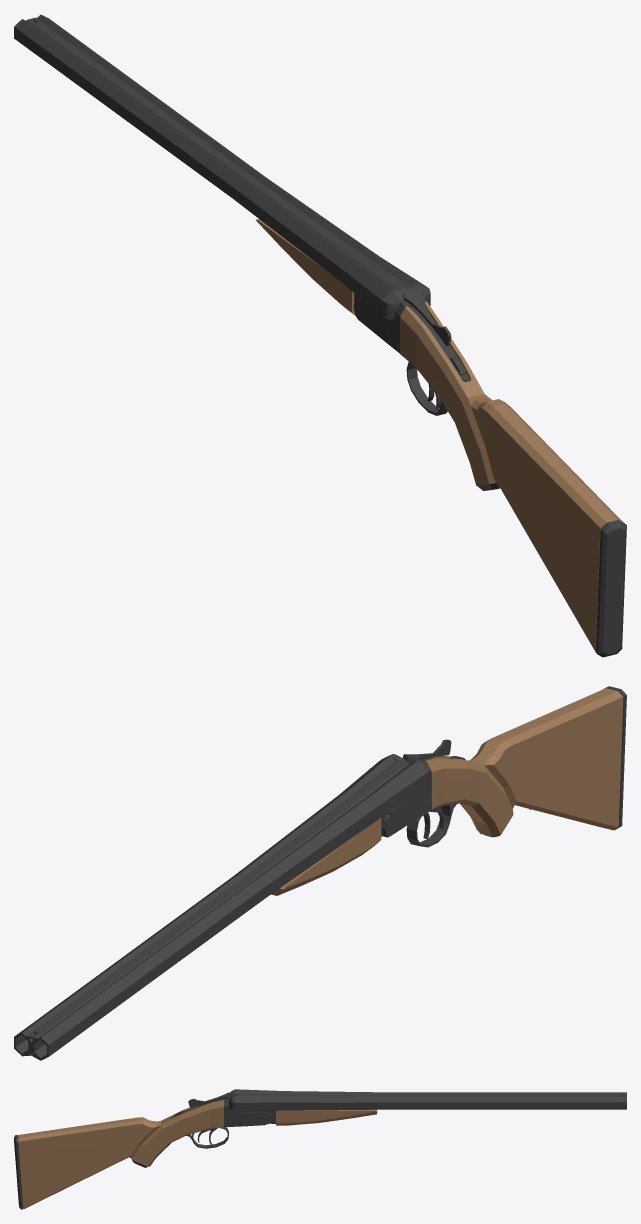
File: shotgun_4.glb
3 renders of one model, top to bottom at view 1: azimuth 30°, elevation 25°; view 2: azimuth 150°, elevation 25°; view 3: azimuth 270°, elevation 25°, orthographic. The views are drawn at different scales.
Parts seen in each view (by area): view 1: p14_accent, p0_paint, p24_paint, p4_paint, p2_accent; view 2: p0_paint, p14_accent, p2_accent, p4_paint, p12_paint, p24_paint; view 3: p14_accent, p0_paint, p2_accent, p4_paint, p24_paint, p12_paint, p11_paint.
Boxes of the visible parts, x1,y1,x2,y2 form: p14_accent: (400,301,622,651); p0_paint: (14,14,425,313); p24_paint: (595,520,626,657); p4_paint: (353,287,470,382); p2_accent: (256,219,355,315); p0_paint: (14,756,426,1060); p14_accent: (424,688,623,836); p2_accent: (271,818,381,895); p4_paint: (382,758,434,837); p12_paint: (406,803,458,847); p24_paint: (604,686,626,830); p14_accent: (18,1100,223,1208); p0_paint: (237,1089,626,1112); p2_accent: (276,1109,377,1125); p4_paint: (170,1094,272,1126); p24_paint: (14,1135,23,1209); p12_paint: (186,1127,228,1148); p11_paint: (188,1092,232,1107).
Size of the model in its own units: 0.0537 by 0.2361 by 1.14.
